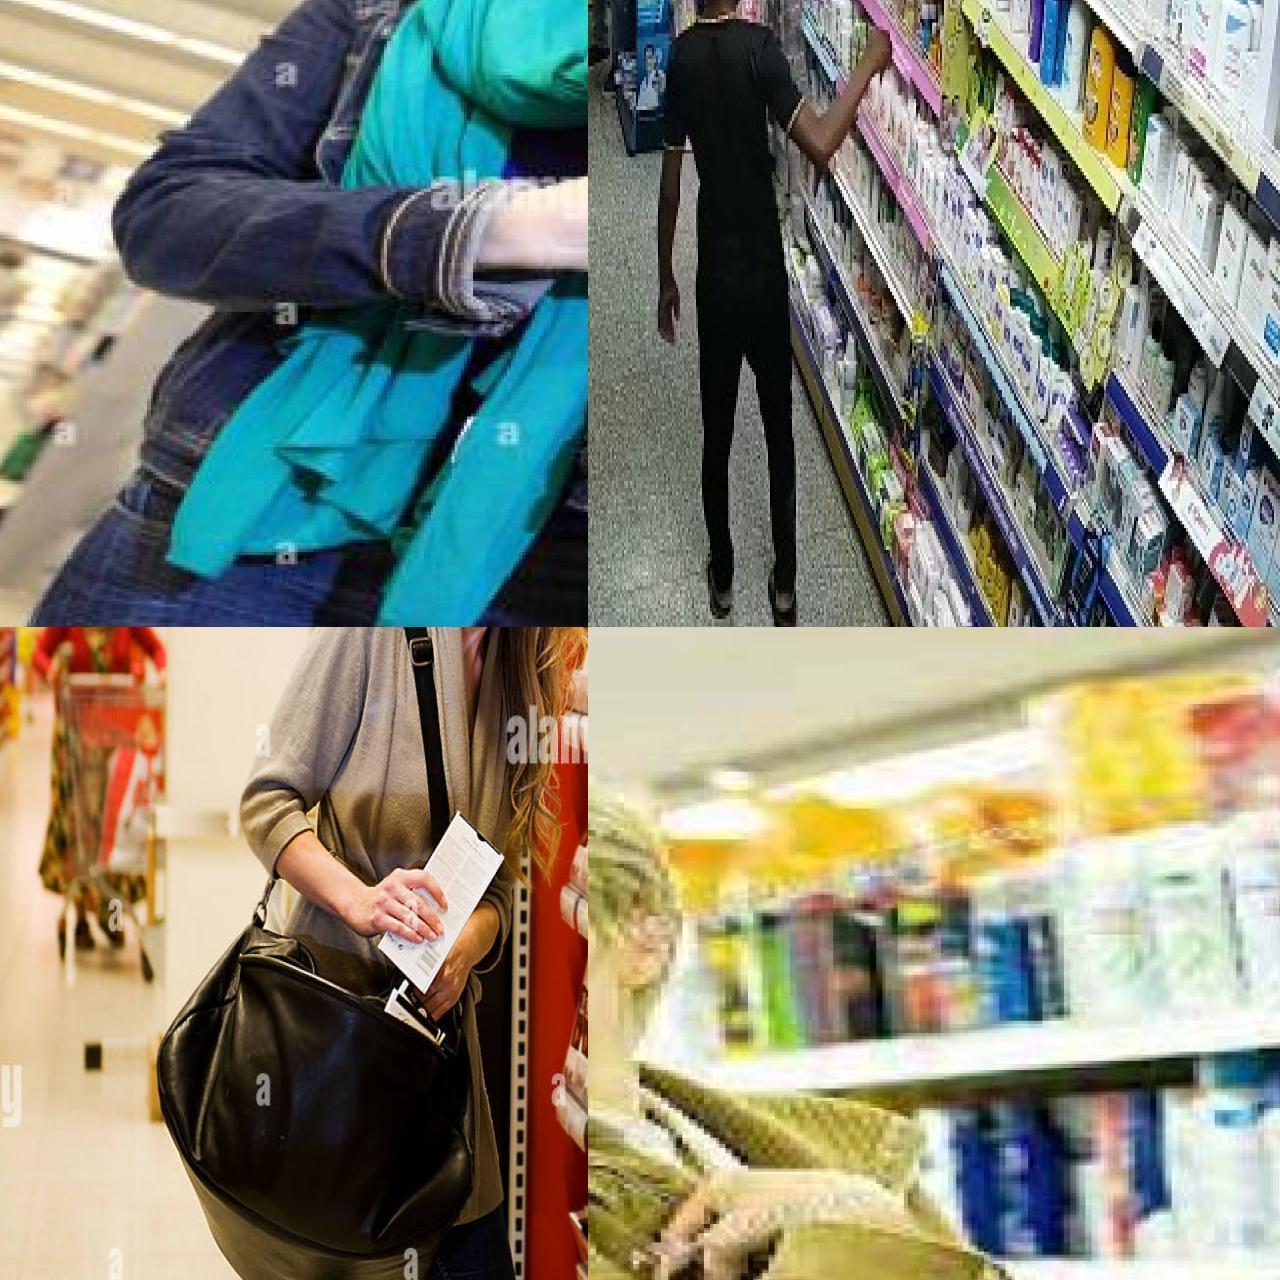Shoplifting: (156, 627, 588, 1280), (0, 0, 588, 422), (588, 1047, 1220, 1280), (588, 1088, 1280, 1280)
normal: (614, 0, 901, 627)
